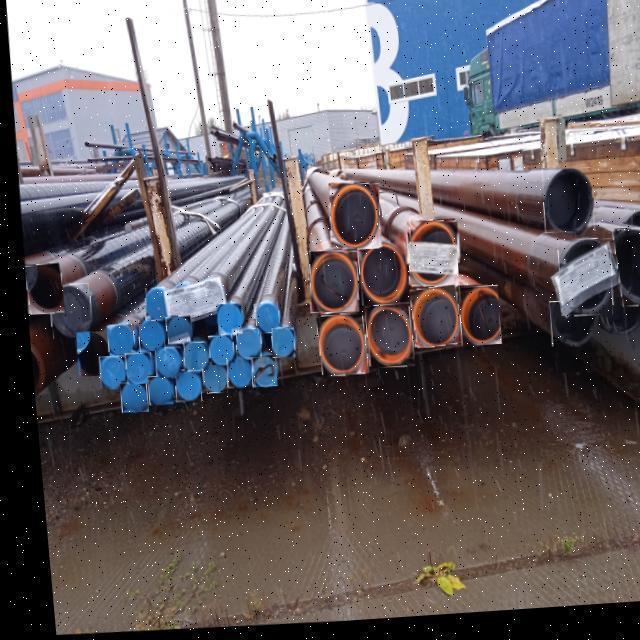pipe: (554, 247, 606, 323), (538, 175, 589, 240), (403, 291, 456, 353), (403, 225, 452, 292), (352, 246, 403, 310), (326, 187, 375, 253), (310, 317, 361, 380), (359, 309, 407, 373), (304, 254, 351, 316), (607, 236, 640, 315), (453, 292, 494, 351), (542, 307, 594, 353), (43, 284, 86, 339), (19, 262, 58, 314), (70, 332, 104, 377), (100, 325, 129, 359), (117, 353, 145, 385), (112, 383, 140, 413), (247, 305, 274, 336), (92, 357, 118, 388), (244, 359, 270, 390), (168, 371, 193, 403), (132, 321, 157, 353), (210, 307, 236, 337), (202, 336, 227, 367), (159, 318, 186, 346), (148, 349, 174, 378), (195, 366, 220, 396), (229, 332, 254, 362), (140, 290, 163, 322), (221, 361, 245, 391), (140, 377, 164, 406), (176, 345, 200, 373), (265, 331, 287, 361)
